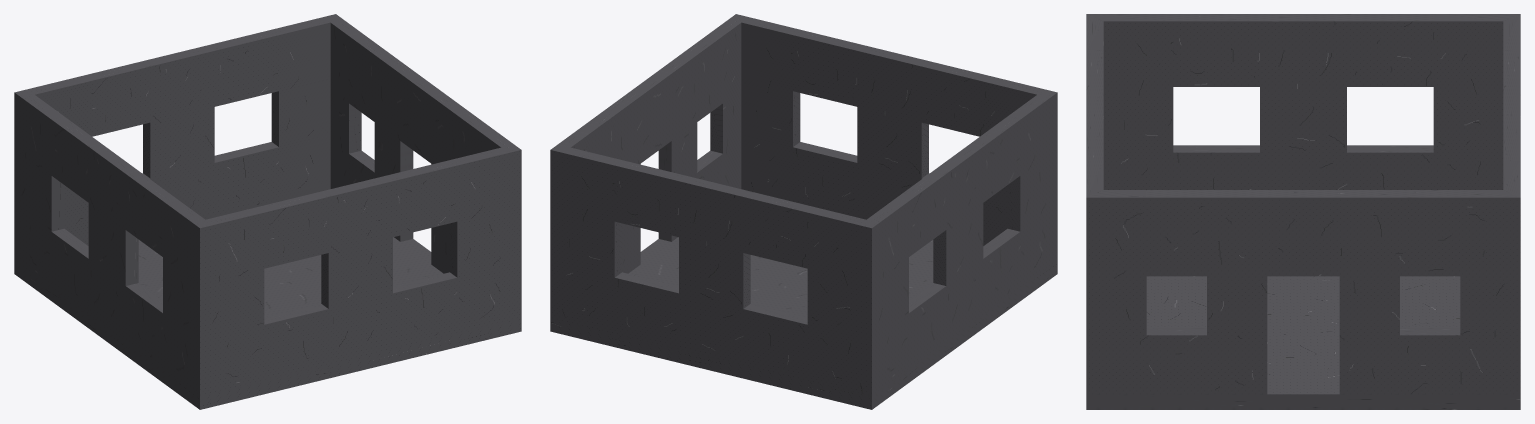
Rendered from Bottom Floor Compound Concrete.fbx.
The picture shows the model from 3 angles, left to right: view 1: azimuth 30°, elevation 25°; view 2: azimuth 150°, elevation 25°; view 3: azimuth 270°, elevation 25°; orthographic projection. The views are drawn at different scales.
Visible parts, largest first — view 1: Bottom Floor; view 2: Bottom Floor; view 3: Bottom Floor.
Part boxes in pixels (x1=…): Bottom Floor: x1=14, y1=14, x2=521, y2=409; Bottom Floor: x1=550, y1=14, x2=1057, y2=409; Bottom Floor: x1=1086, y1=14, x2=1520, y2=409.
Size of the model in its own units: 1000 by 540 by 1000.
Materials: 1 (1 with a texture image).
